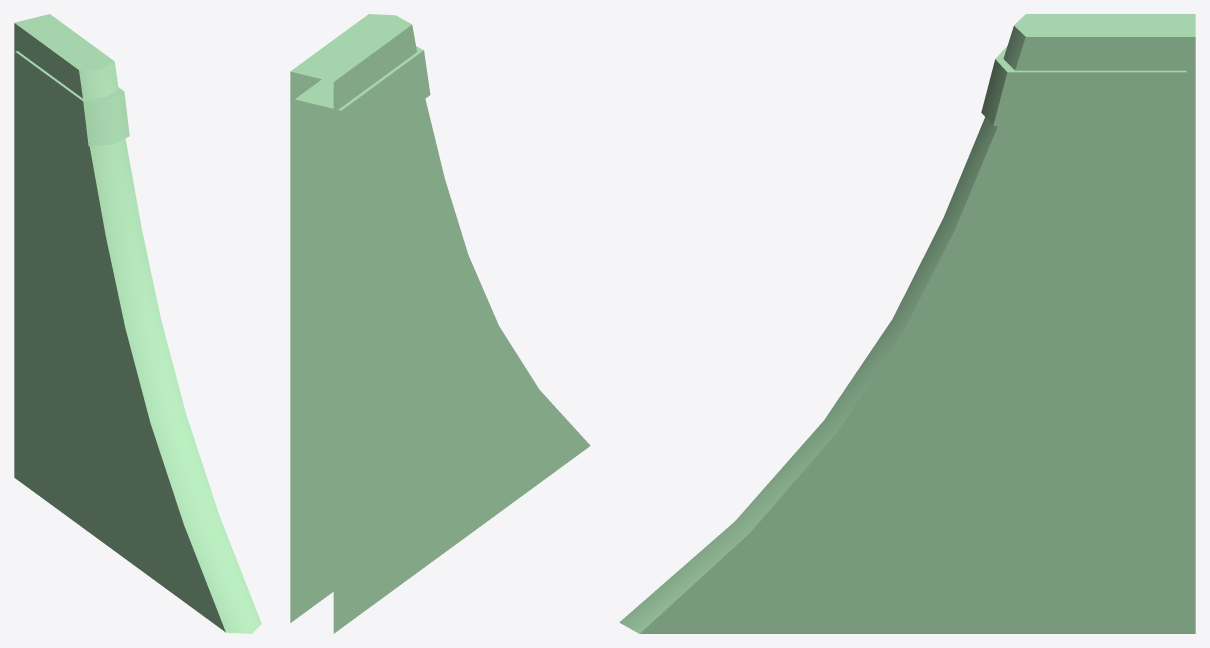
3 views of the same model, side by side, from view 1: azimuth 30°, elevation 25°; view 2: azimuth 150°, elevation 25°; view 3: azimuth 270°, elevation 25° (orthographic). The views are drawn at different scales.
Parts seen in each view (by area): view 1: Object31; view 2: Object31; view 3: Object31.
Boxes of the visible parts, <box> form: Object31: <box>14,14,261,633</box>; Object31: <box>290,14,590,633</box>; Object31: <box>619,14,1195,633</box>.
Size of the model in its own units: 50.42 by 532 by 466.
